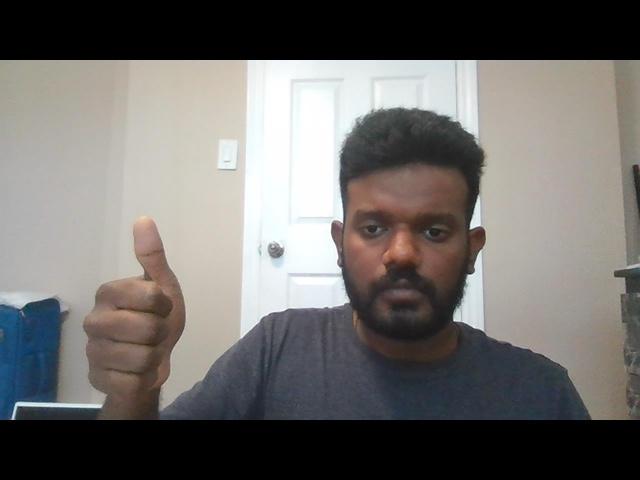yes: (81, 213, 188, 400)
